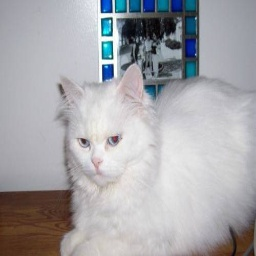cat: (49, 63, 256, 256)
